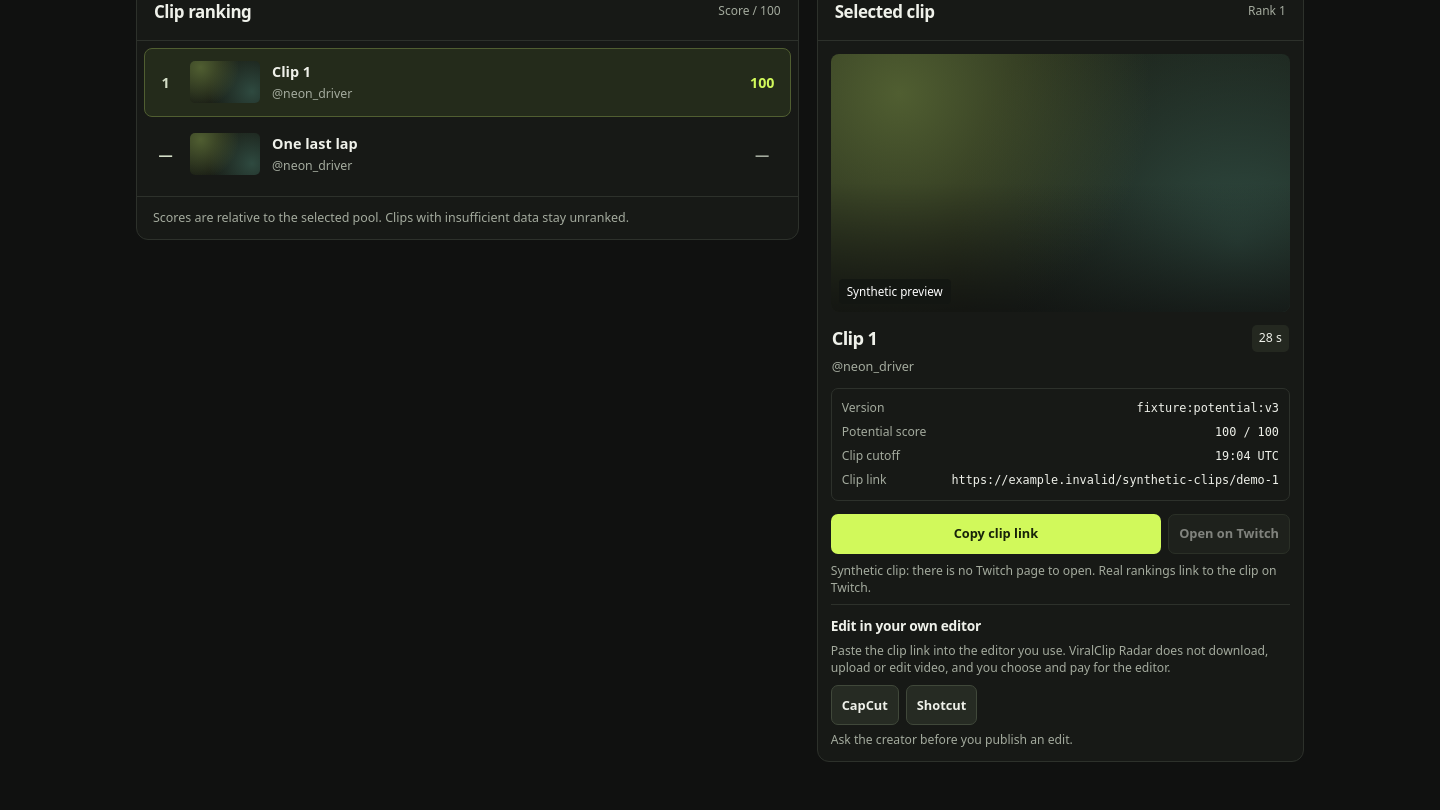
Test case: Twitch Shortlist › explains a failed copy instead of failing silently
(page scrolled)
Click the button "Copy clip link" at (996, 534), box [831,514,1161,554]
(page scrolled)
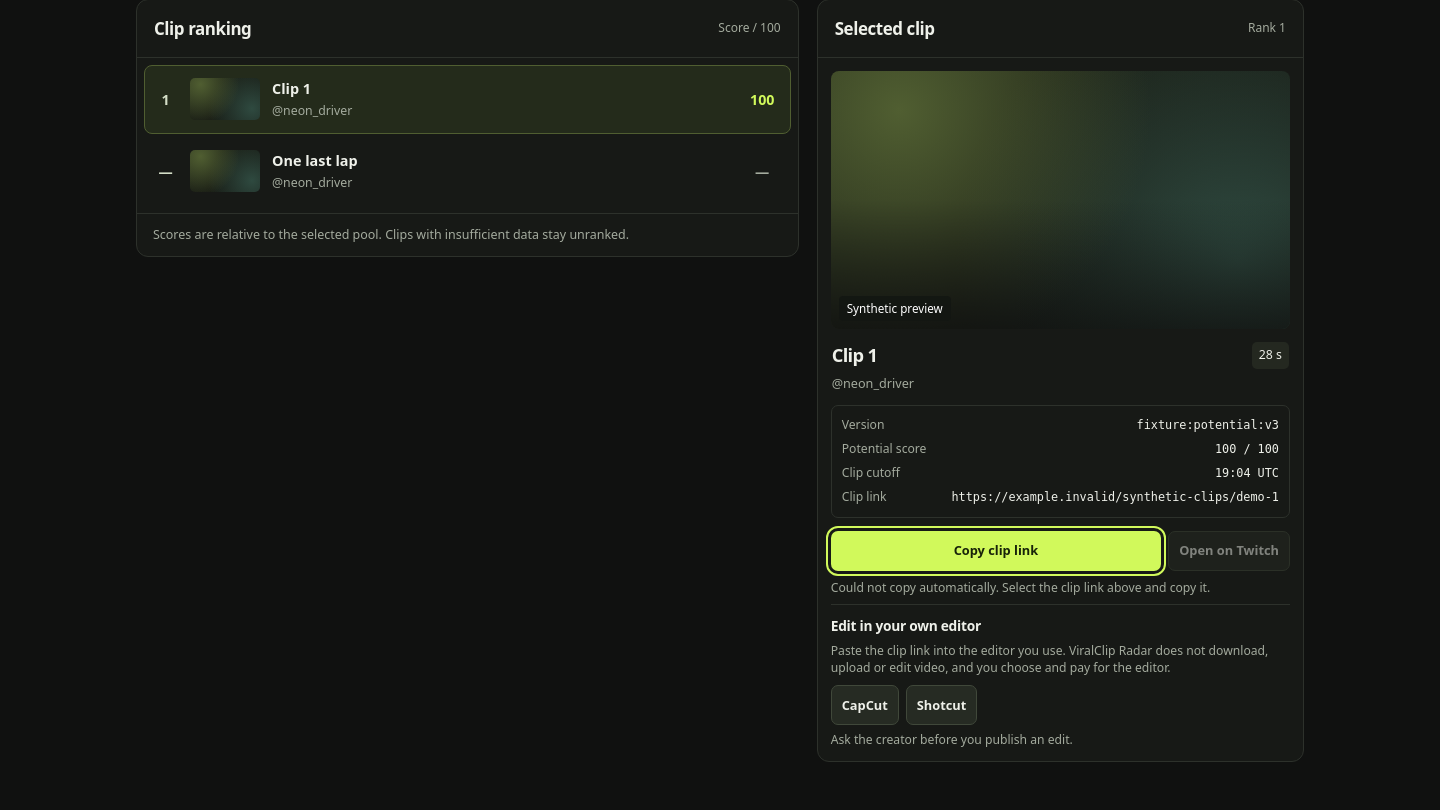
Expected: the message shows "Could not copy automatically", [831,578,1210,596]
